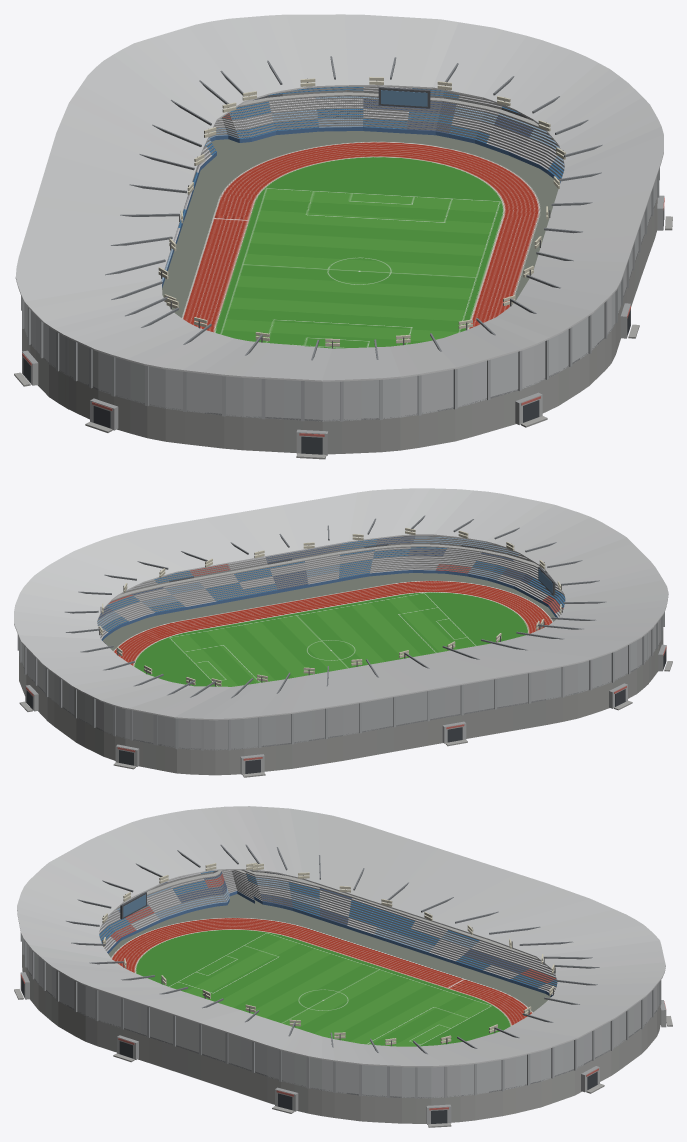
File: k93_stadion.glb
3 views of the same model, one above another, from view 1: azimuth 30°, elevation 25°; view 2: azimuth 150°, elevation 25°; view 3: azimuth 270°, elevation 25° (orthographic). The views are drawn at different scales.
Bounding box in the file's own units: 232 × 24.5 × 244.
3 materials, 2 textured.
